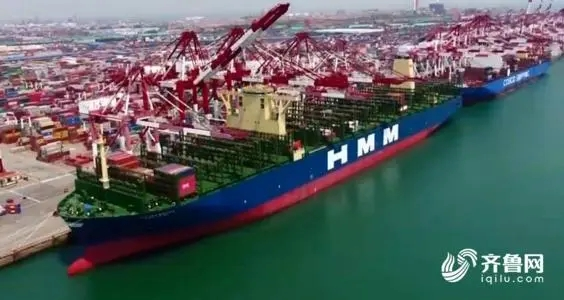Cargoship: (50, 62, 464, 272), (454, 45, 550, 102)
